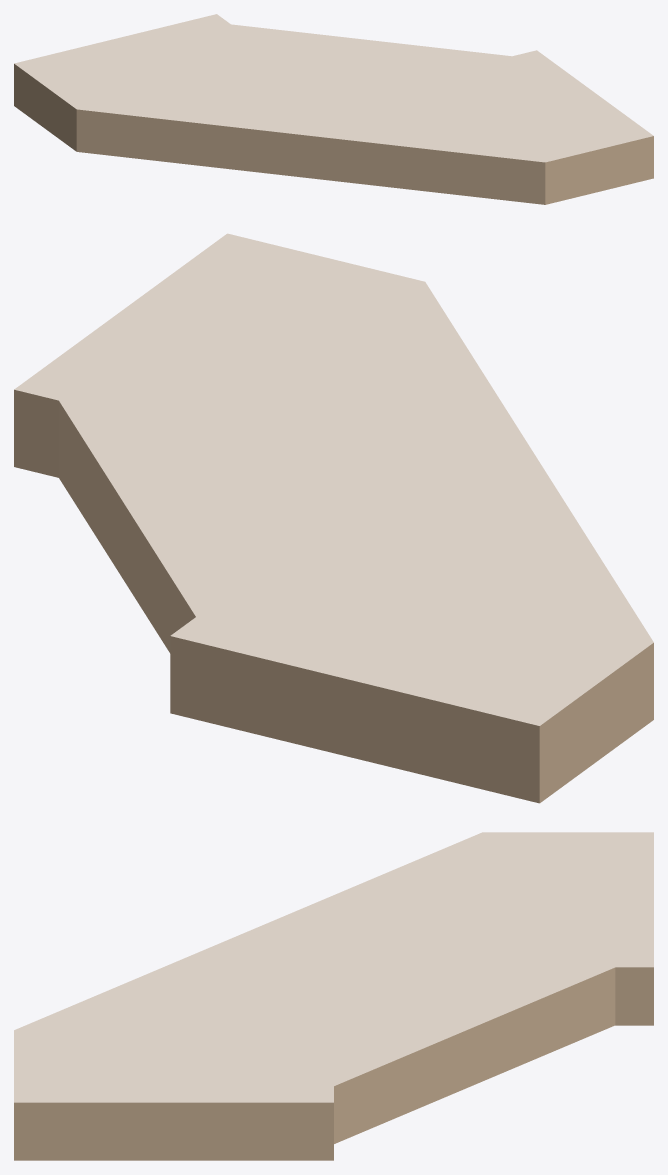
The model's file is Floor_Tower_Balcony.fbx.
3 views of the same model, one above another, from view 1: azimuth 30°, elevation 25°; view 2: azimuth 150°, elevation 25°; view 3: azimuth 270°, elevation 25° (orthographic). The views are drawn at different scales.
Parts seen in each view (by area): view 1: object1, Sandstone_Trim; view 2: object1, Sandstone_Trim; view 3: object1, Sandstone_Trim.
Boxes of the visible parts, x1,y1,x2,y2 form: object1: (14, 14, 653, 162); Sandstone_Trim: (14, 64, 653, 204); object1: (14, 233, 653, 725); Sandstone_Trim: (14, 389, 653, 803); object1: (14, 832, 653, 1102); Sandstone_Trim: (14, 967, 653, 1160).
Bounding box in the file's own units: 2 × 0.2 × 2.
